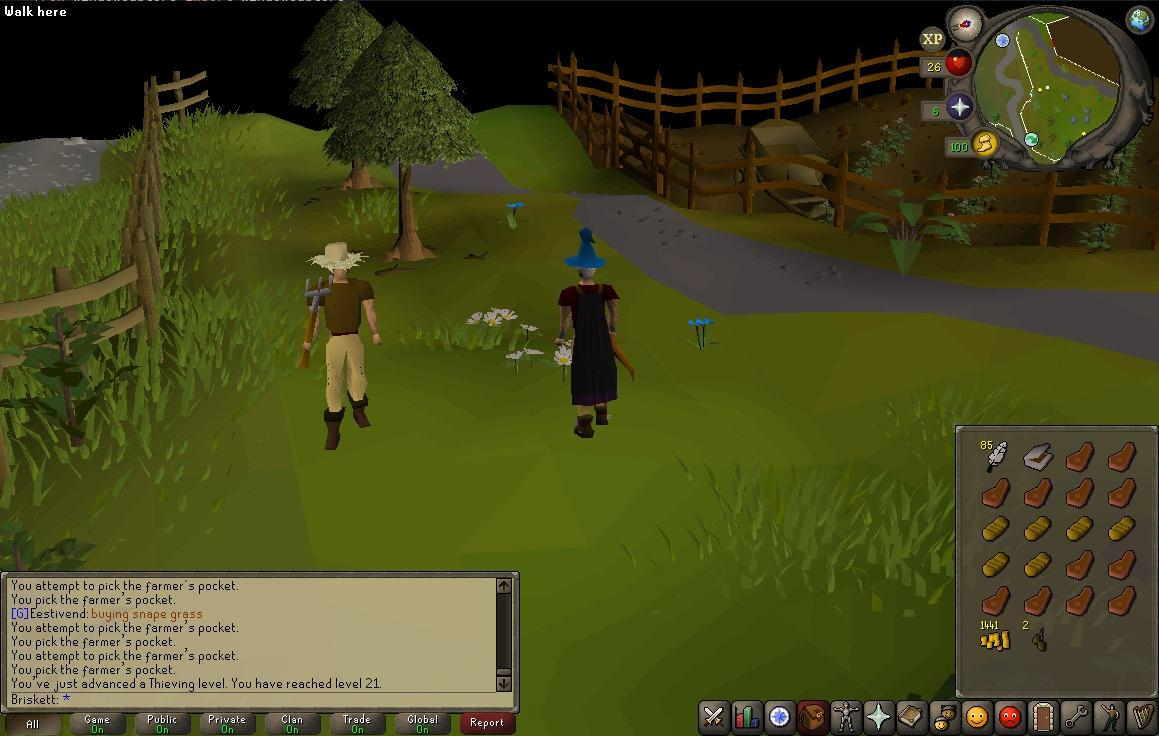Farmer: (300, 241, 382, 451)
